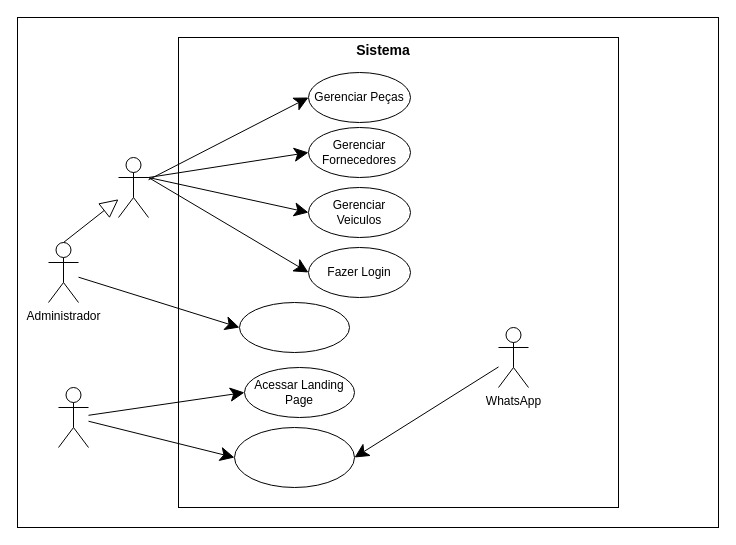
This 736x545 diagram has some shape labels left out. Here are the shapes that lost their labels. From the top down, the box of each, then its label:
(118, 156, 148, 218): Funcionário
(238, 302, 350, 352): Gerenciar Usuários
(58, 386, 88, 448): Cliente
(234, 426, 354, 488): Entrar em contato pelo WhatsApp
